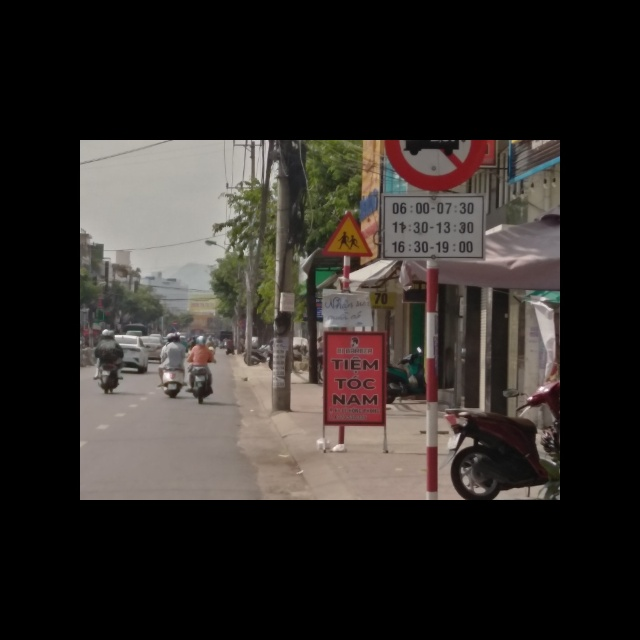Trẻ em ngang qua: (322, 210, 375, 256)
